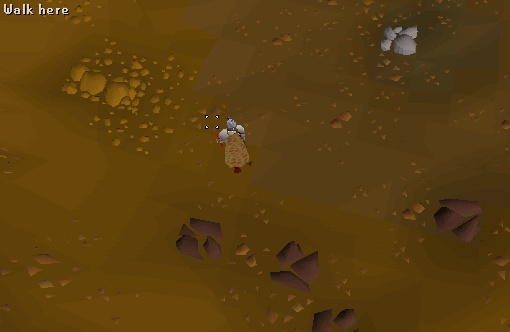iron: (169, 208, 233, 272), (267, 236, 326, 299), (433, 189, 491, 253)
